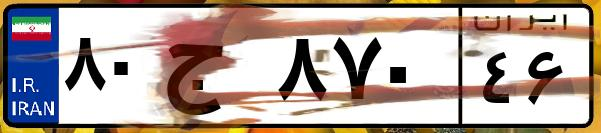0: (385, 28, 445, 110), (110, 28, 158, 98)
4: (475, 38, 525, 113)
6: (525, 38, 570, 115)
7: (330, 28, 385, 110)
8: (270, 28, 330, 110), (57, 26, 110, 100)
ج: (158, 20, 270, 120)
